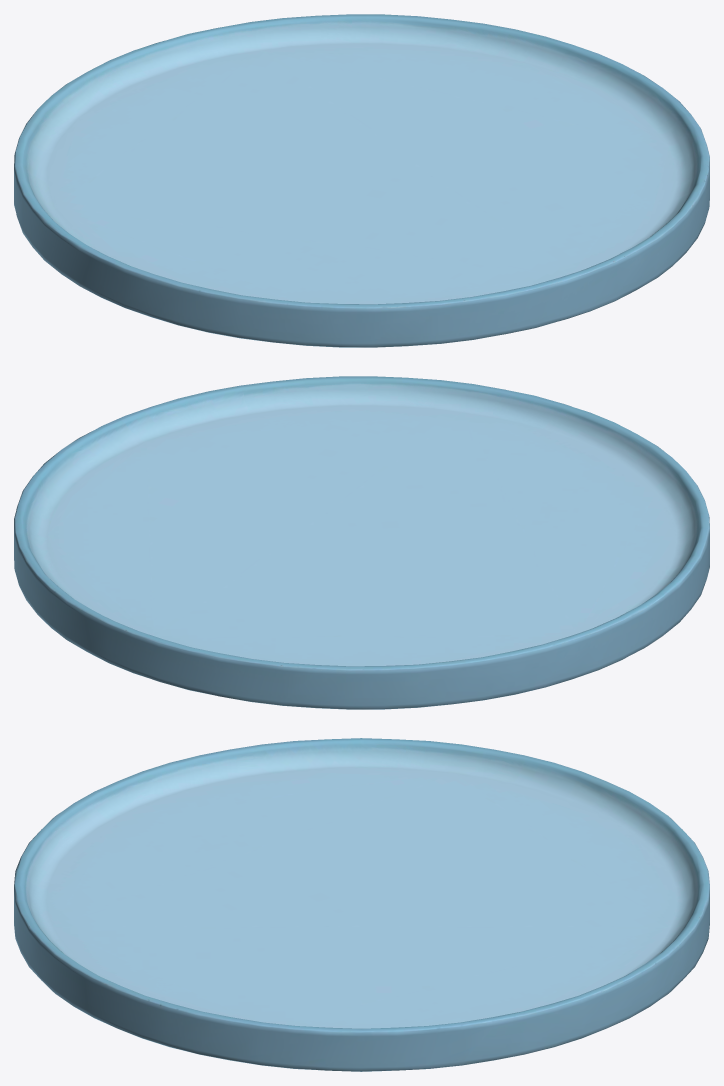
The model's file is liquid-surface.glb.
The picture shows the model from 3 angles, top to bottom: view 1: azimuth 30°, elevation 25°; view 2: azimuth 150°, elevation 25°; view 3: azimuth 270°, elevation 25°; orthographic projection.
Parts seen in each view (by area): view 1: tripo_node_5b2b50ae-08cf-402a-8cdd-b13bb1595da3; view 2: tripo_node_5b2b50ae-08cf-402a-8cdd-b13bb1595da3; view 3: tripo_node_5b2b50ae-08cf-402a-8cdd-b13bb1595da3.
Boxes of the visible parts, bbox=[...] form: tripo_node_5b2b50ae-08cf-402a-8cdd-b13bb1595da3: bbox=[14, 14, 709, 347]; tripo_node_5b2b50ae-08cf-402a-8cdd-b13bb1595da3: bbox=[14, 376, 709, 709]; tripo_node_5b2b50ae-08cf-402a-8cdd-b13bb1595da3: bbox=[14, 738, 709, 1071].
Size of the model in its own units: 15.48 by 1 by 15.48.
Materials: 1 (1 with a texture image).
